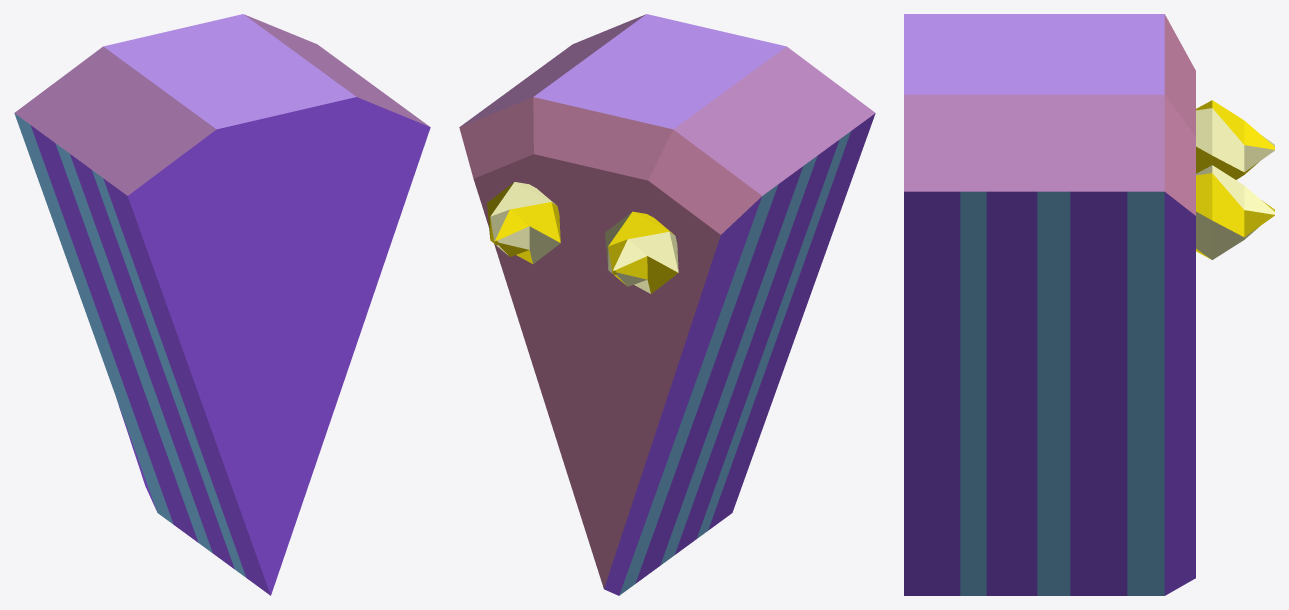
The model's file is pink_cake_3_1.fbx.
3 views of the same model, side by side, from view 1: azimuth 30°, elevation 25°; view 2: azimuth 150°, elevation 25°; view 3: azimuth 270°, elevation 25° (orthographic). The views are drawn at different scales.
Visible parts, largest first — view 1: pink_cake_4; view 2: pink_cake_4; view 3: pink_cake_4.
Part boxes in pixels (<box>): pink_cake_4: <box>14,14,430,595</box>; pink_cake_4: <box>459,14,875,595</box>; pink_cake_4: <box>904,14,1274,595</box>.
Bounding box in the file's own units: 186 × 282 × 172.
